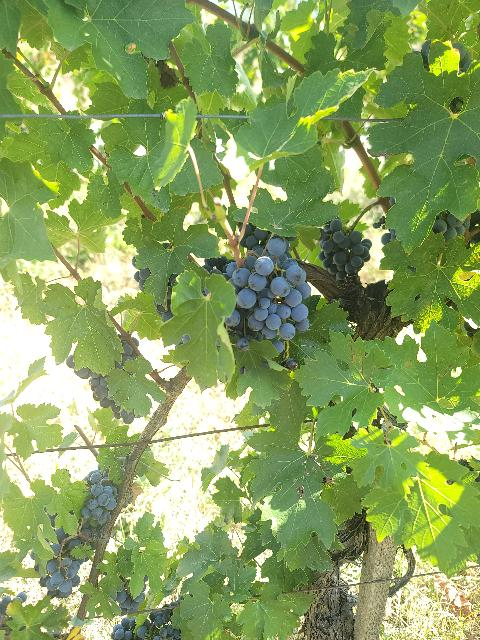grapes: (231, 236, 311, 340), (65, 355, 135, 424), (318, 218, 371, 280), (40, 528, 85, 599), (110, 600, 181, 640), (81, 471, 118, 525)
